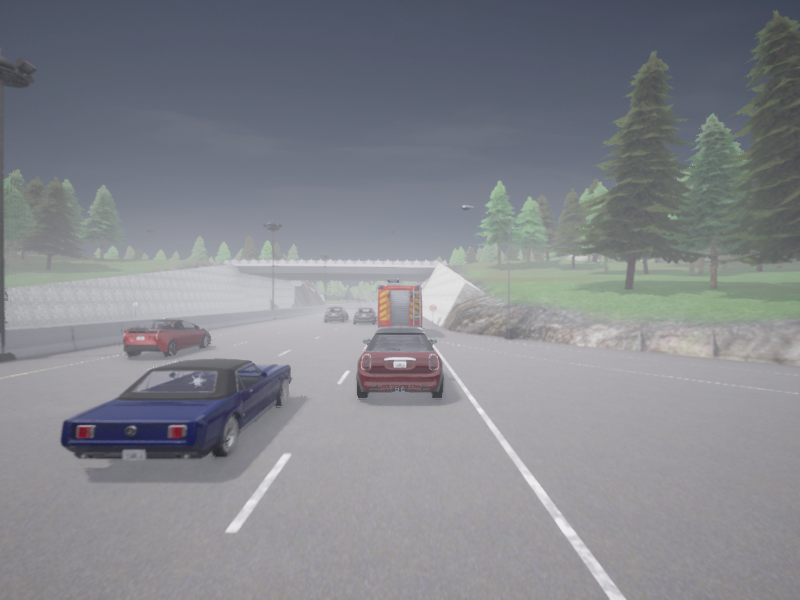vehicle: (61, 359, 291, 459), (356, 326, 443, 397), (123, 319, 210, 356), (378, 278, 421, 327), (354, 307, 377, 323), (324, 307, 348, 321)
